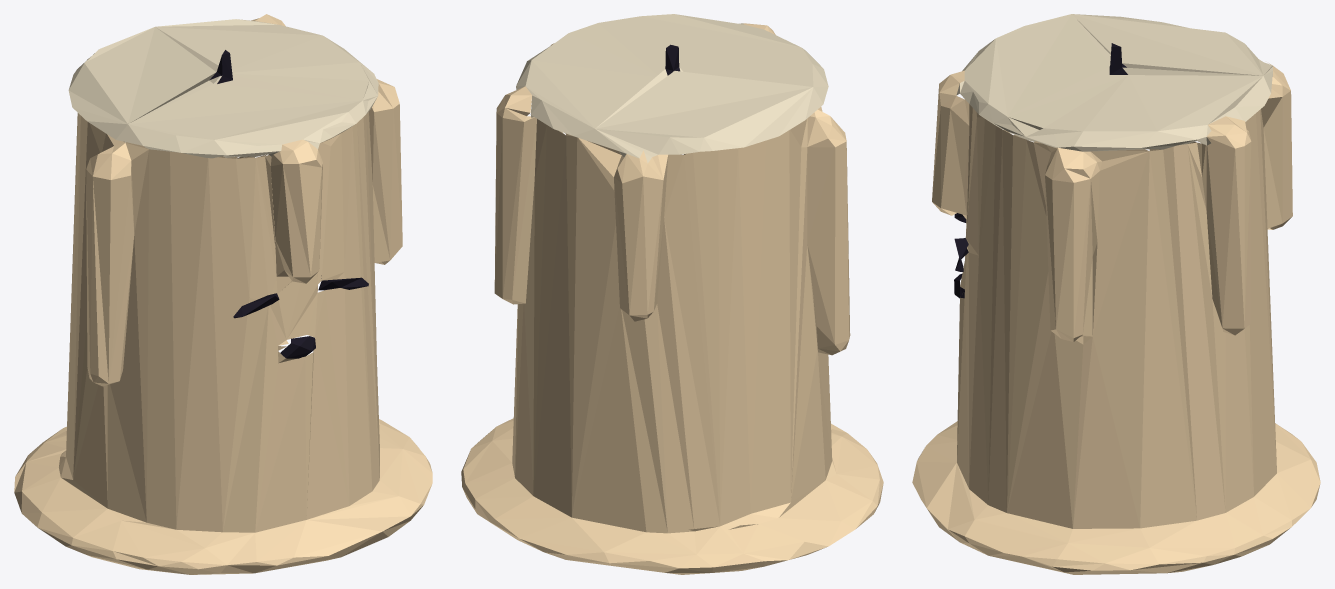
File: spirit_wick.glb
The picture shows the model from 3 angles, left to right: view 1: azimuth 30°, elevation 25°; view 2: azimuth 150°, elevation 25°; view 3: azimuth 270°, elevation 25°; orthographic projection.
Visible parts, largest first — view 1: spirit_wick; view 2: spirit_wick; view 3: spirit_wick.
Part boxes in pixels (<box>): spirit_wick: <box>14,14,432,574</box>; spirit_wick: <box>461,14,883,574</box>; spirit_wick: <box>912,14,1320,574</box>.
Size of the model in its own units: 0.7984 by 0.9536 by 0.7594.
